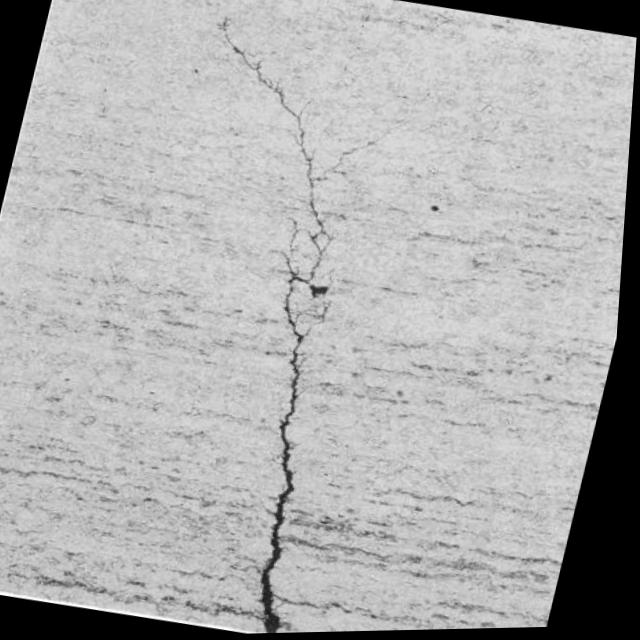Crack: (154, 0, 398, 634)
